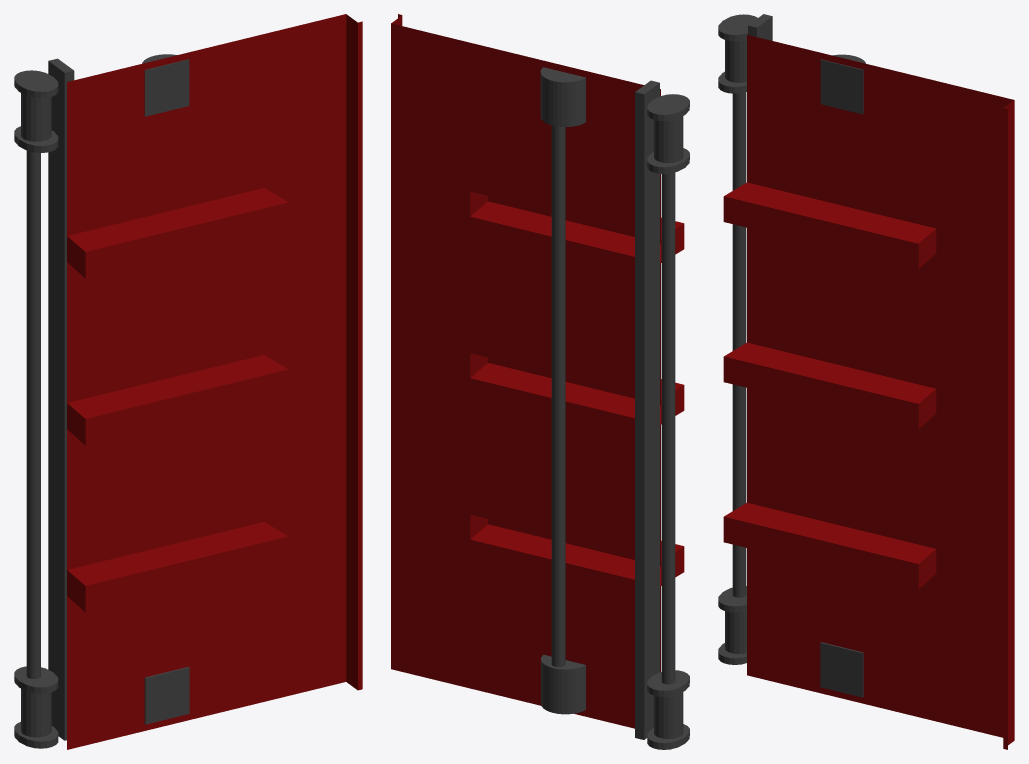
Rendered from pintu2.obj.
3 views of the same model, side by side, from view 1: azimuth 30°, elevation 25°; view 2: azimuth 150°, elevation 25°; view 3: azimuth 330°, elevation 25° (orthographic). The views are drawn at different scales.
Parts seen in each view (by area): view 1: ContainerMerah.008; view 2: ContainerMerah.008; view 3: ContainerMerah.008.
Part boxes in pixels (x1=…): ContainerMerah.008: x1=14, y1=14, x2=362, y2=749; ContainerMerah.008: x1=391, y1=14, x2=689, y2=749; ContainerMerah.008: x1=718, y1=14, x2=1014, y2=749.
Bounding box in the file's own units: 2.55 × 5.14 × 0.6332.
